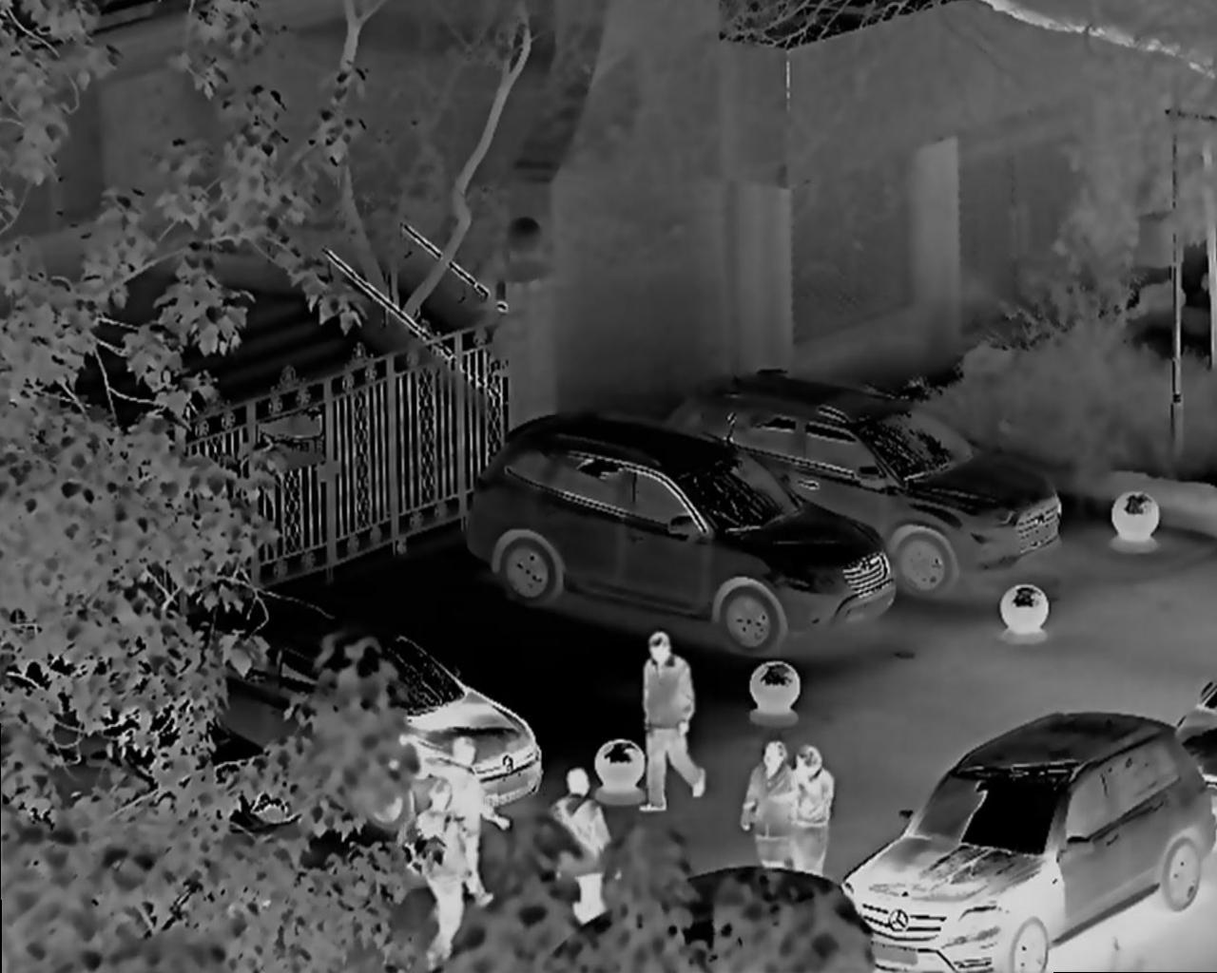person: (644, 628, 707, 824), (445, 740, 512, 887), (417, 782, 481, 930), (552, 765, 615, 914), (789, 741, 836, 889), (743, 735, 785, 892)
